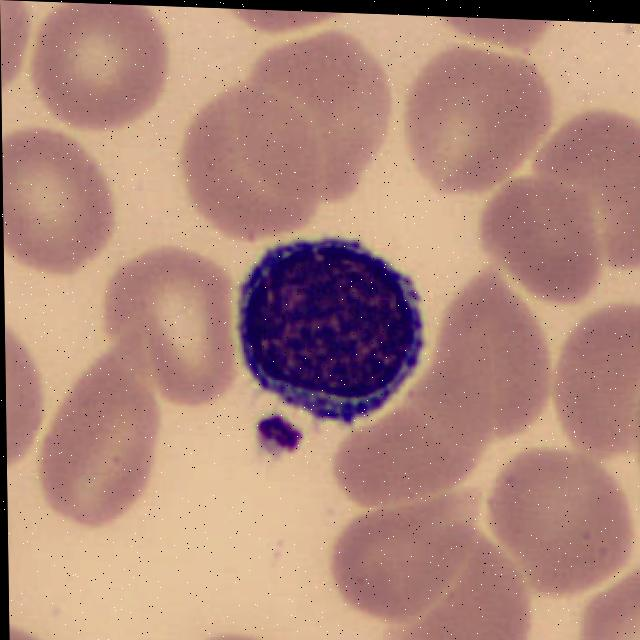lymphocyte: (238, 223, 424, 429)
platelets: (252, 409, 302, 465)
rbc: (34, 316, 189, 526), (405, 274, 558, 442), (181, 76, 330, 246), (234, 33, 385, 197), (405, 53, 565, 201), (494, 439, 640, 596), (324, 483, 484, 614), (118, 246, 250, 396), (331, 404, 492, 516), (30, 7, 171, 131), (387, 524, 537, 640), (2, 130, 120, 276), (542, 106, 640, 262), (543, 302, 640, 458), (479, 172, 601, 295), (5, 325, 49, 475), (574, 572, 640, 640), (226, 8, 362, 38), (0, 0, 37, 94), (440, 16, 557, 43), (629, 379, 640, 499), (197, 633, 273, 640)
